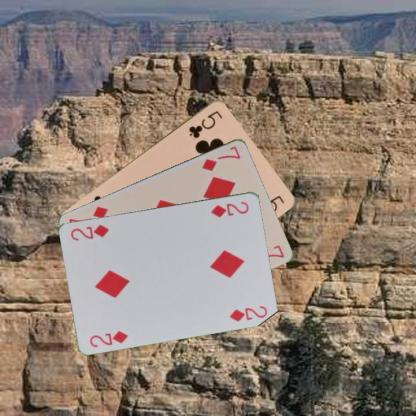2d: (208, 198, 250, 219), (88, 328, 130, 348)
5c: (186, 108, 224, 140)
7d: (199, 143, 242, 173)
